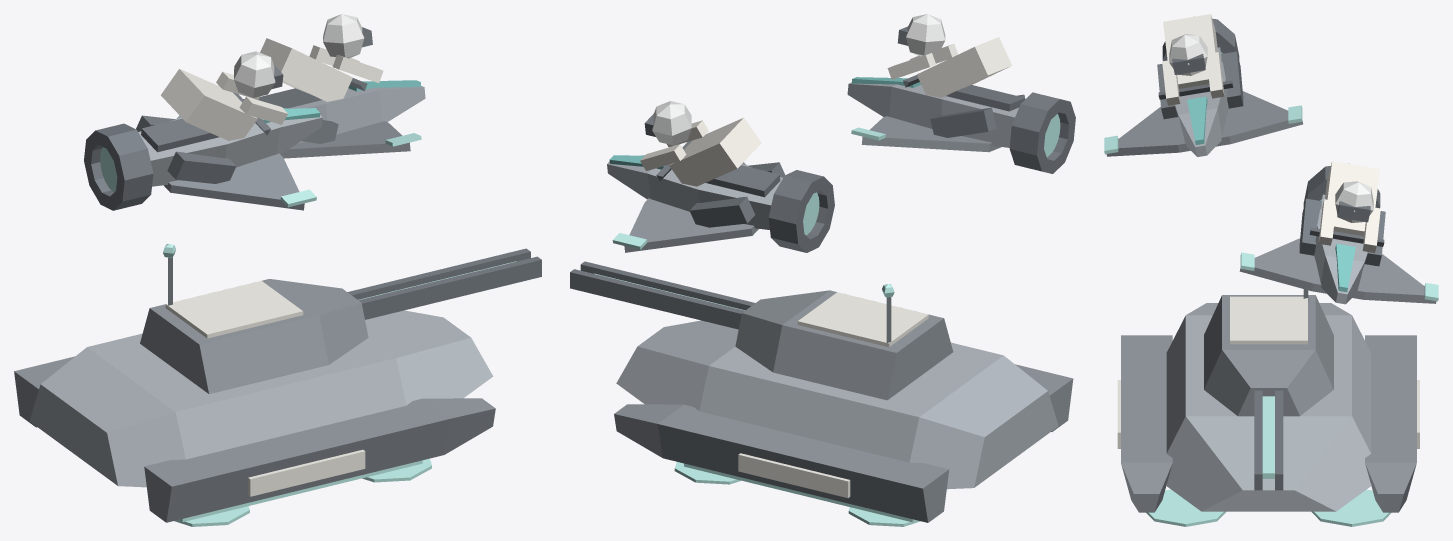
File: army.glb
3 views of the same model, side by side, from view 1: azimuth 30°, elevation 25°; view 2: azimuth 150°, elevation 25°; view 3: azimuth 270°, elevation 25° (orthographic). The views are drawn at different scales.
Parts seen in each view (by area): view 1: future_army; view 2: future_army; view 3: future_army.
Boxes of the visible parts, x1,y1,x2,y2 form: future_army: [14, 14, 541, 526]; future_army: [570, 14, 1075, 526]; future_army: [1104, 14, 1438, 526].
Bounding box in the file's own units: 0.9995 × 0.9031 × 0.6624.
